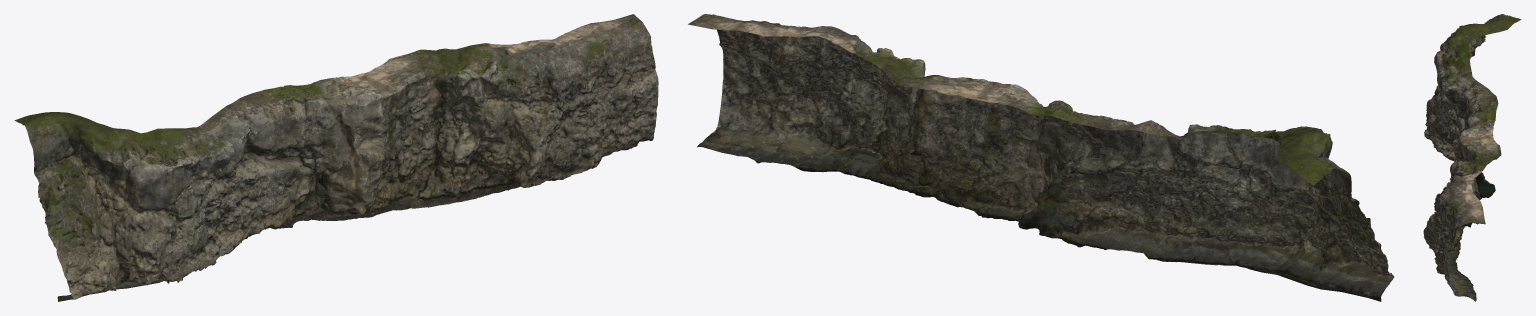
The model's file is coastal_cliff_02.glb.
3 views of the same model, side by side, from view 1: azimuth 30°, elevation 25°; view 2: azimuth 150°, elevation 25°; view 3: azimuth 270°, elevation 25° (orthographic). The views are drawn at different scales.
Parts seen in each view (by area): view 1: coastal_cliff_02_LOD0; view 2: coastal_cliff_02_LOD0; view 3: coastal_cliff_02_LOD0.
Boxes of the visible parts, x1,y1,x2,y2 form: coastal_cliff_02_LOD0: (14,14,658,301); coastal_cliff_02_LOD0: (688,14,1394,301); coastal_cliff_02_LOD0: (1423,14,1521,301).
Bounding box in the file's own units: 40.93 × 10.05 × 8.65.
Materials: 1 (1 with a texture image).
